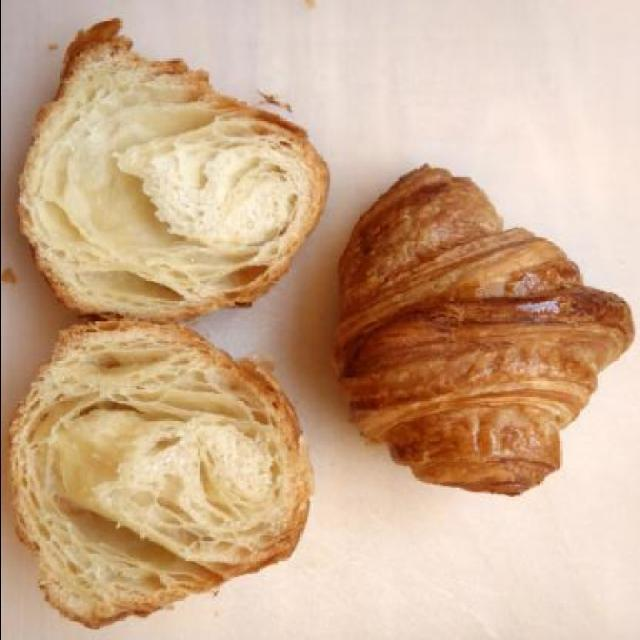Croissant: (9, 16, 328, 630), (327, 161, 636, 499)
